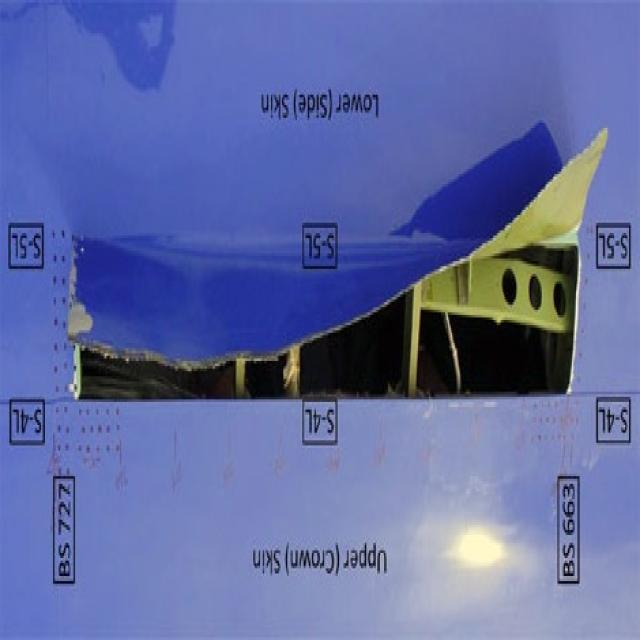crack: (70, 124, 611, 408)
